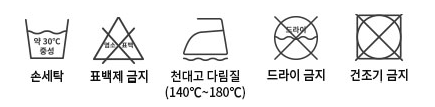KR_hand_wash_30_neutral: (22, 14, 70, 63)
KR_no_chlorine_bleach: (88, 10, 147, 65)
KR_no_dry_clean: (270, 11, 320, 63)
KR_no_tumble_dry: (352, 9, 406, 65)
